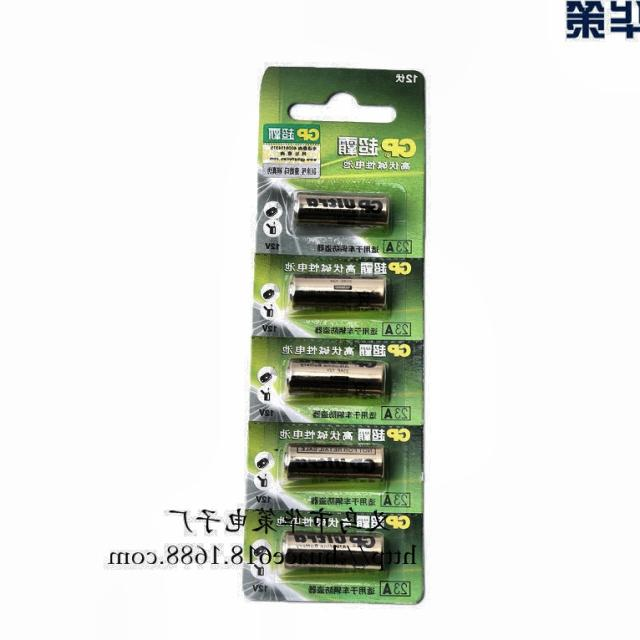Non-Valuable Waste - Batteries: (282, 532, 384, 569), (285, 444, 384, 478), (286, 361, 386, 394), (297, 192, 389, 226), (290, 278, 386, 308)
